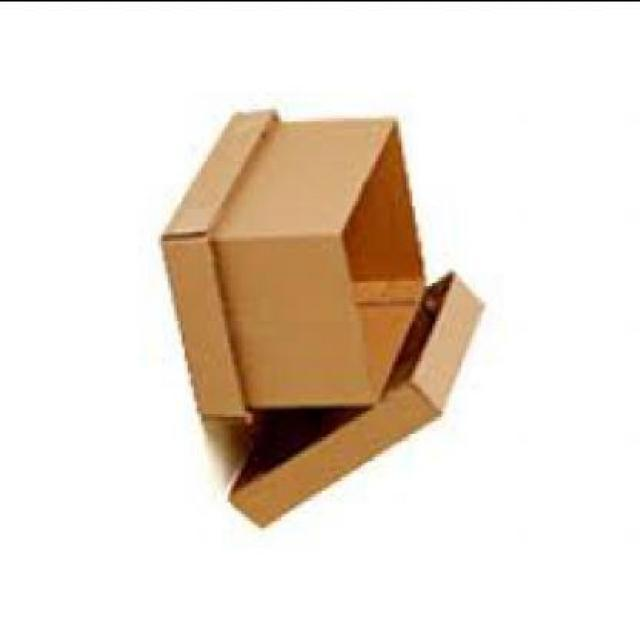box: (231, 268, 489, 523), (220, 112, 432, 405), (162, 105, 285, 419)
